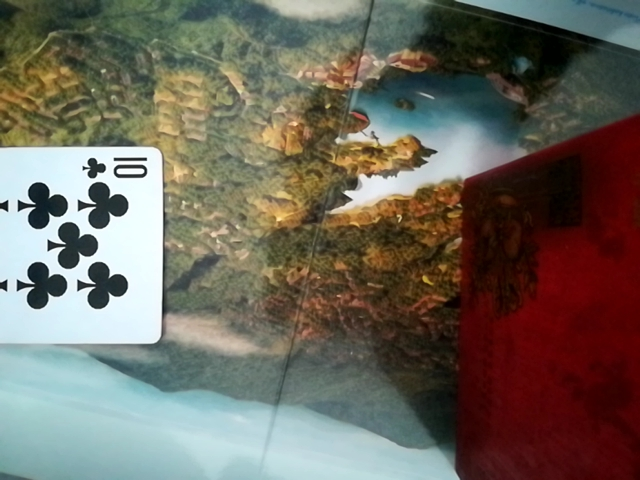mh 10: (0, 144, 165, 352)
